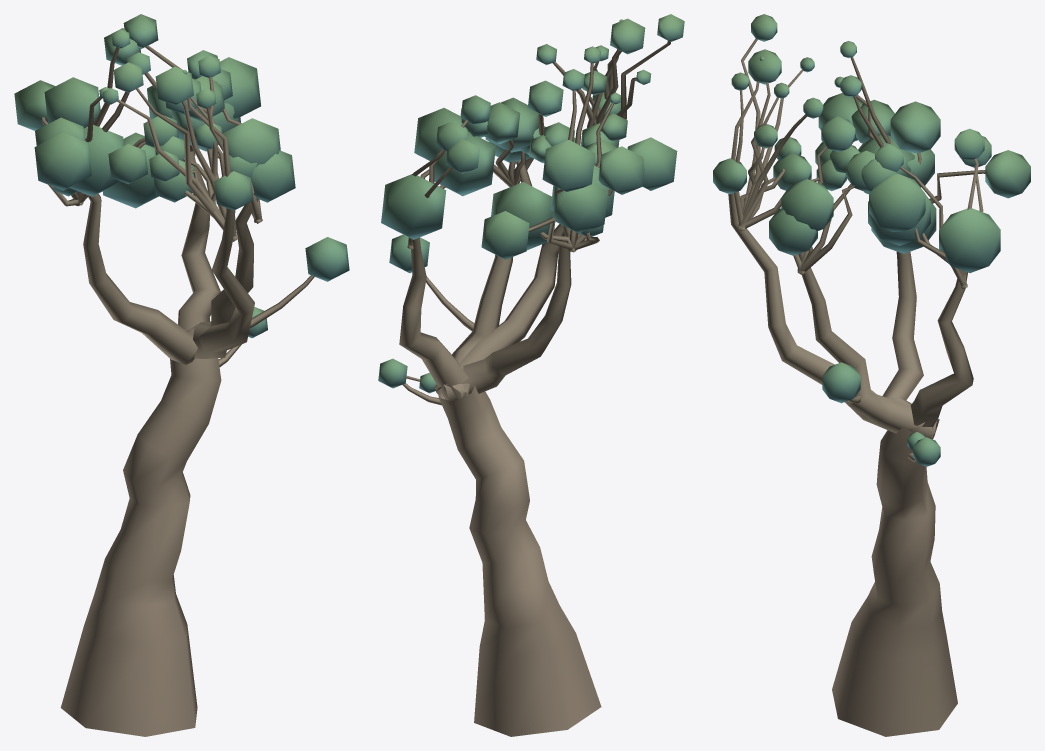
File: seed_tree_f.glb
3 views of the same model, side by side, from view 1: azimuth 30°, elevation 25°; view 2: azimuth 150°, elevation 25°; view 3: azimuth 270°, elevation 25° (orthographic). The views are drawn at different scales.
Parts seen in each view (by area): view 1: seed_tree_f_LOD0; view 2: seed_tree_f_LOD0; view 3: seed_tree_f_LOD0.
Part boxes in pixels (bbox=[...]): seed_tree_f_LOD0: bbox=[14, 14, 349, 736]; seed_tree_f_LOD0: bbox=[378, 14, 684, 736]; seed_tree_f_LOD0: bbox=[713, 14, 1030, 736].
Size of what is drawn, in the model's own units: 5.54 by 12.55 by 5.45.
